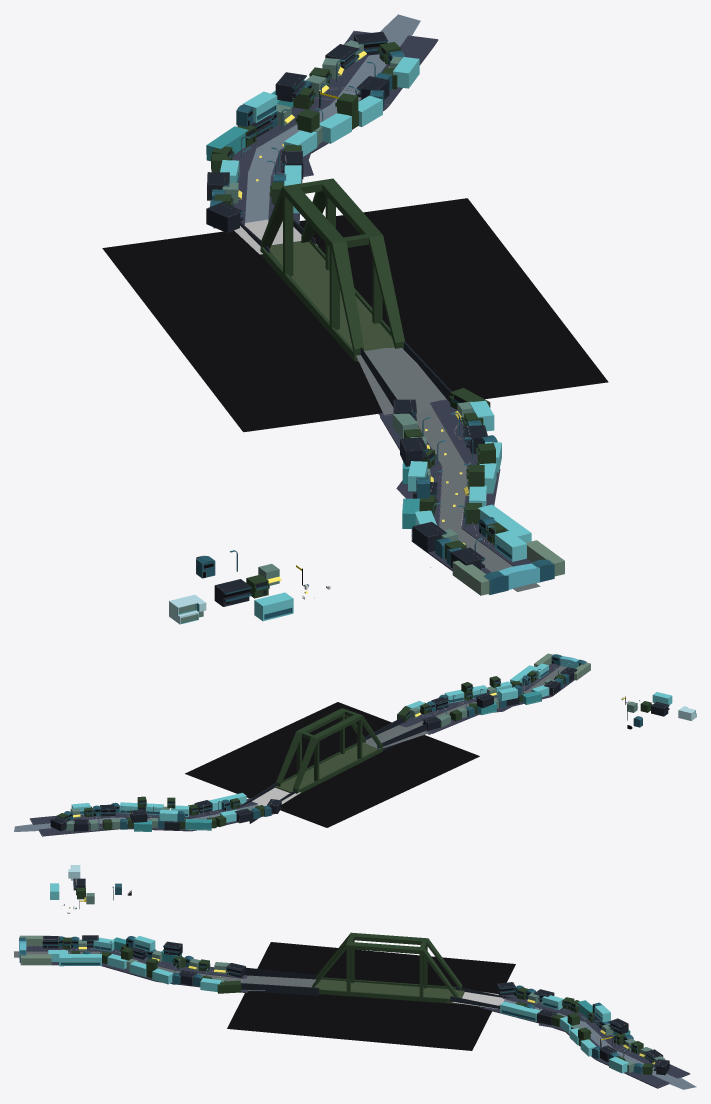
Rendered from sidewalk fix marathon.glb.
3 renders of one model, top to bottom at view 1: azimuth 30°, elevation 25°; view 2: azimuth 150°, elevation 25°; view 3: azimuth 270°, elevation 25°, orthographic. The views are drawn at different scales.
Parts seen in each view (by area): view 1: bridge -col; view 2: bridge -col; view 3: bridge -col.
Boxes of the visible parts, x1,y1,x2,y2 form: bridge -col: (102,14,608,624); bridge -col: (14,653,696,836); bridge -col: (14,865,696,1089).
Size of the model in its own units: 344 by 44.37 by 463.
Materials: 31 (29 with a texture image).
